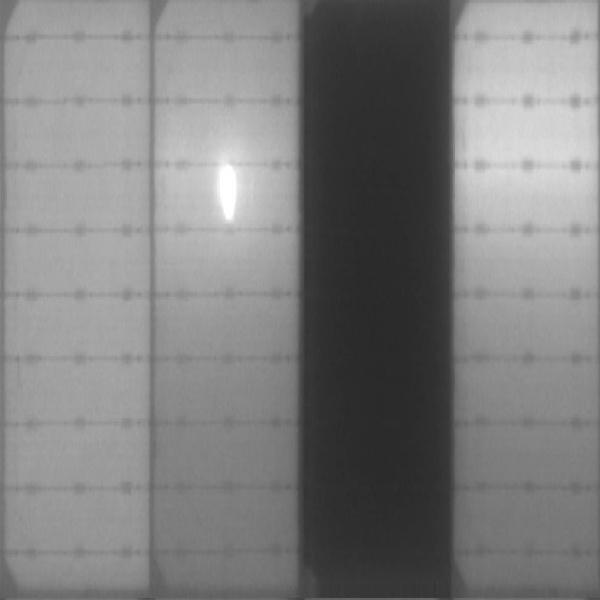hot_spot: (214, 164, 241, 222)
no_electricity: (301, 1, 449, 595)
